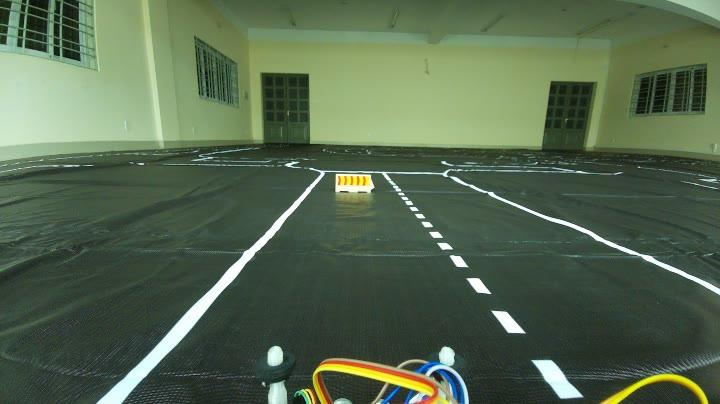roadblock: (332, 169, 381, 201)
